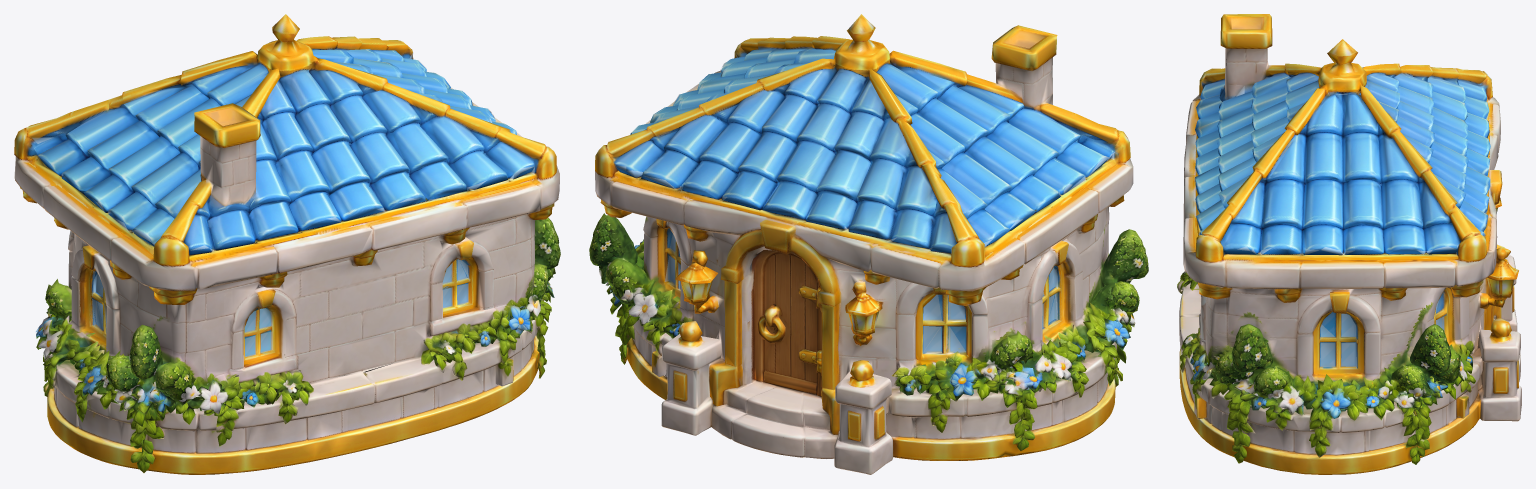
Rendered from HaloDomeHouse_11_parts.glb.
3 renders of one model, left to right at view 1: azimuth 30°, elevation 25°; view 2: azimuth 150°, elevation 25°; view 3: azimuth 270°, elevation 25°, orthographic. The views are drawn at different scales.
Parts seen in each view (by area): view 1: HaloDomeHouse_11_Body_t01, HaloDomeHouse_11_Body_t00, HaloDomeHouse_11_Body_t11, HaloDomeHouse_11_Body_t10, HaloDomeHouse_11_Glass, HaloDomeHouse_11_WinPane; view 2: HaloDomeHouse_11_Body_t01, HaloDomeHouse_11_Body_t00, HaloDomeHouse_11_Body_t11, HaloDomeHouse_11_Body_t10, HaloDomeHouse_11_Door, HaloDomeHouse_11_Glass, HaloDomeHouse_11_WinPane, HaloDomeHouse_11_DoorHw; view 3: HaloDomeHouse_11_Body_t01, HaloDomeHouse_11_Body_t00, HaloDomeHouse_11_Body_t11, HaloDomeHouse_11_Body_t10, HaloDomeHouse_11_WinPane, HaloDomeHouse_11_Glass.
Boxes of the visible parts, x1,y1,x2,y2 form: HaloDomeHouse_11_Body_t01: (14, 15, 559, 473); HaloDomeHouse_11_Body_t00: (22, 40, 560, 474); HaloDomeHouse_11_Body_t11: (37, 14, 559, 464); HaloDomeHouse_11_Body_t10: (14, 40, 555, 474); HaloDomeHouse_11_Glass: (32, 52, 534, 356); HaloDomeHouse_11_WinPane: (31, 52, 535, 356); HaloDomeHouse_11_Body_t01: (599, 38, 1144, 454); HaloDomeHouse_11_Body_t00: (589, 25, 1139, 458); HaloDomeHouse_11_Body_t11: (598, 14, 1148, 460); HaloDomeHouse_11_Body_t10: (605, 14, 1138, 474); HaloDomeHouse_11_Door: (719, 246, 831, 429); HaloDomeHouse_11_Glass: (617, 62, 1114, 375); HaloDomeHouse_11_WinPane: (617, 69, 1114, 375); HaloDomeHouse_11_DoorHw: (759, 286, 821, 373); HaloDomeHouse_11_Body_t01: (1179, 14, 1521, 462); HaloDomeHouse_11_Body_t00: (1179, 14, 1520, 474); HaloDomeHouse_11_Body_t11: (1177, 63, 1520, 464); HaloDomeHouse_11_Body_t10: (1182, 39, 1517, 474); HaloDomeHouse_11_WinPane: (1195, 77, 1489, 369); HaloDomeHouse_11_Glass: (1194, 77, 1489, 368).
Size of the model in its own units: 24.53 by 18.58 by 17.17.
Materials: 8 (7 with a texture image).
